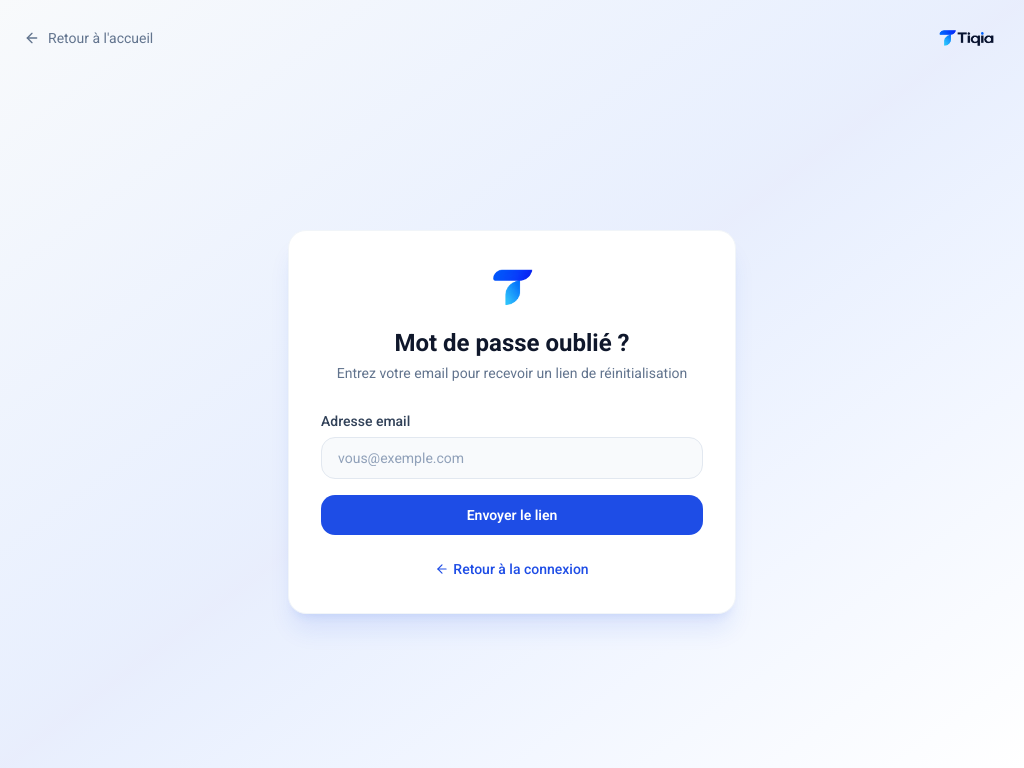
it: ForgotPasswordPage › shows an error if the request fails
Type "me@example.com" into the field labelled "Adresse email".
click(512, 458); type("me@example.com")  # box [321,437,703,479]
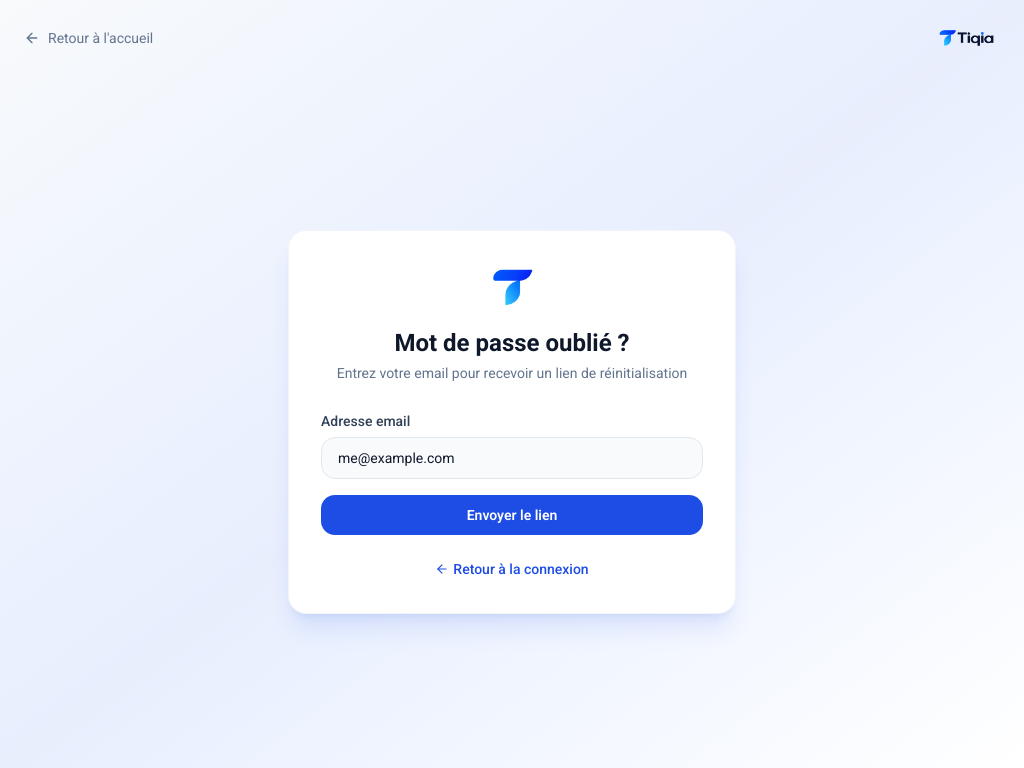
Click the button "Envoyer le lien".
click(512, 515)  # box [321,495,703,535]
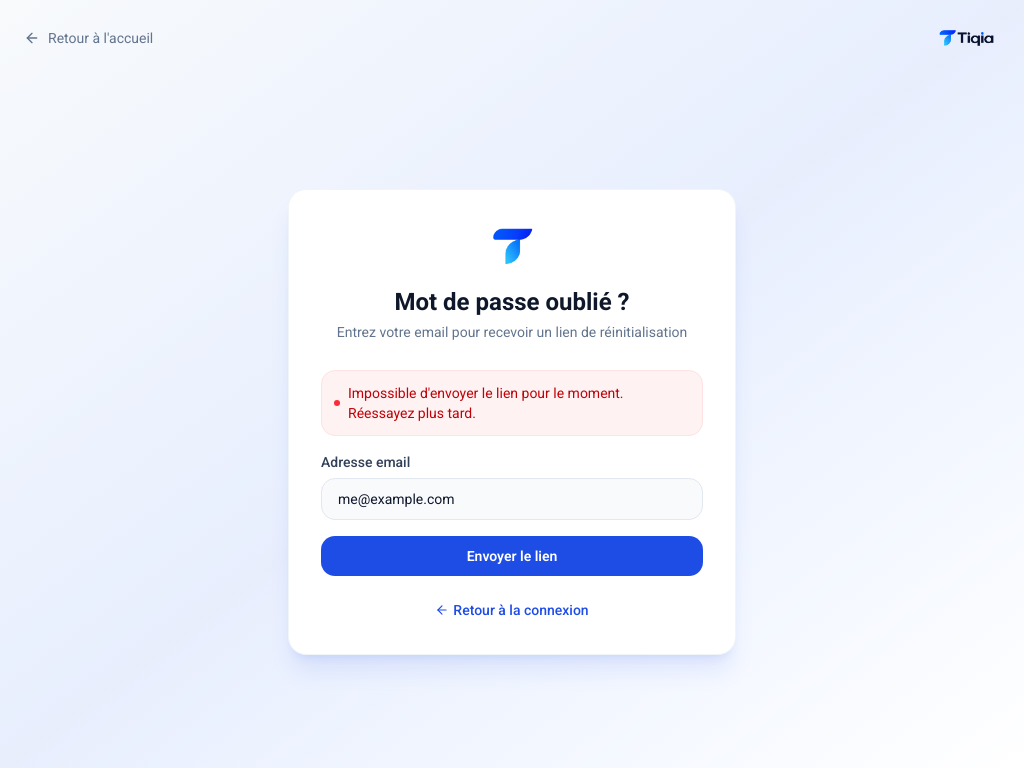
Expected: the text "Impossible d'envoyer le lien" is shown, [348,385,624,421]
